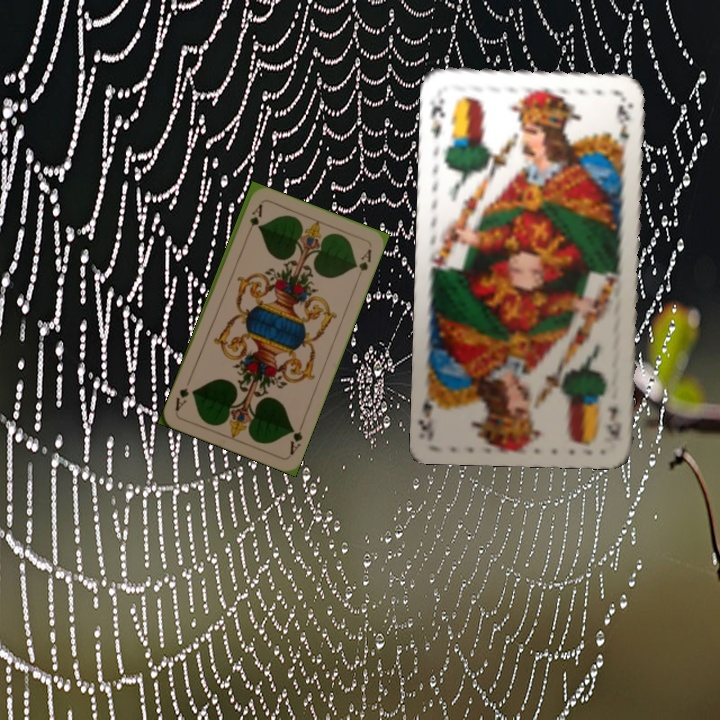EK: (426, 94, 448, 142), (603, 403, 624, 442)
GA: (243, 200, 265, 239), (286, 419, 307, 458)
